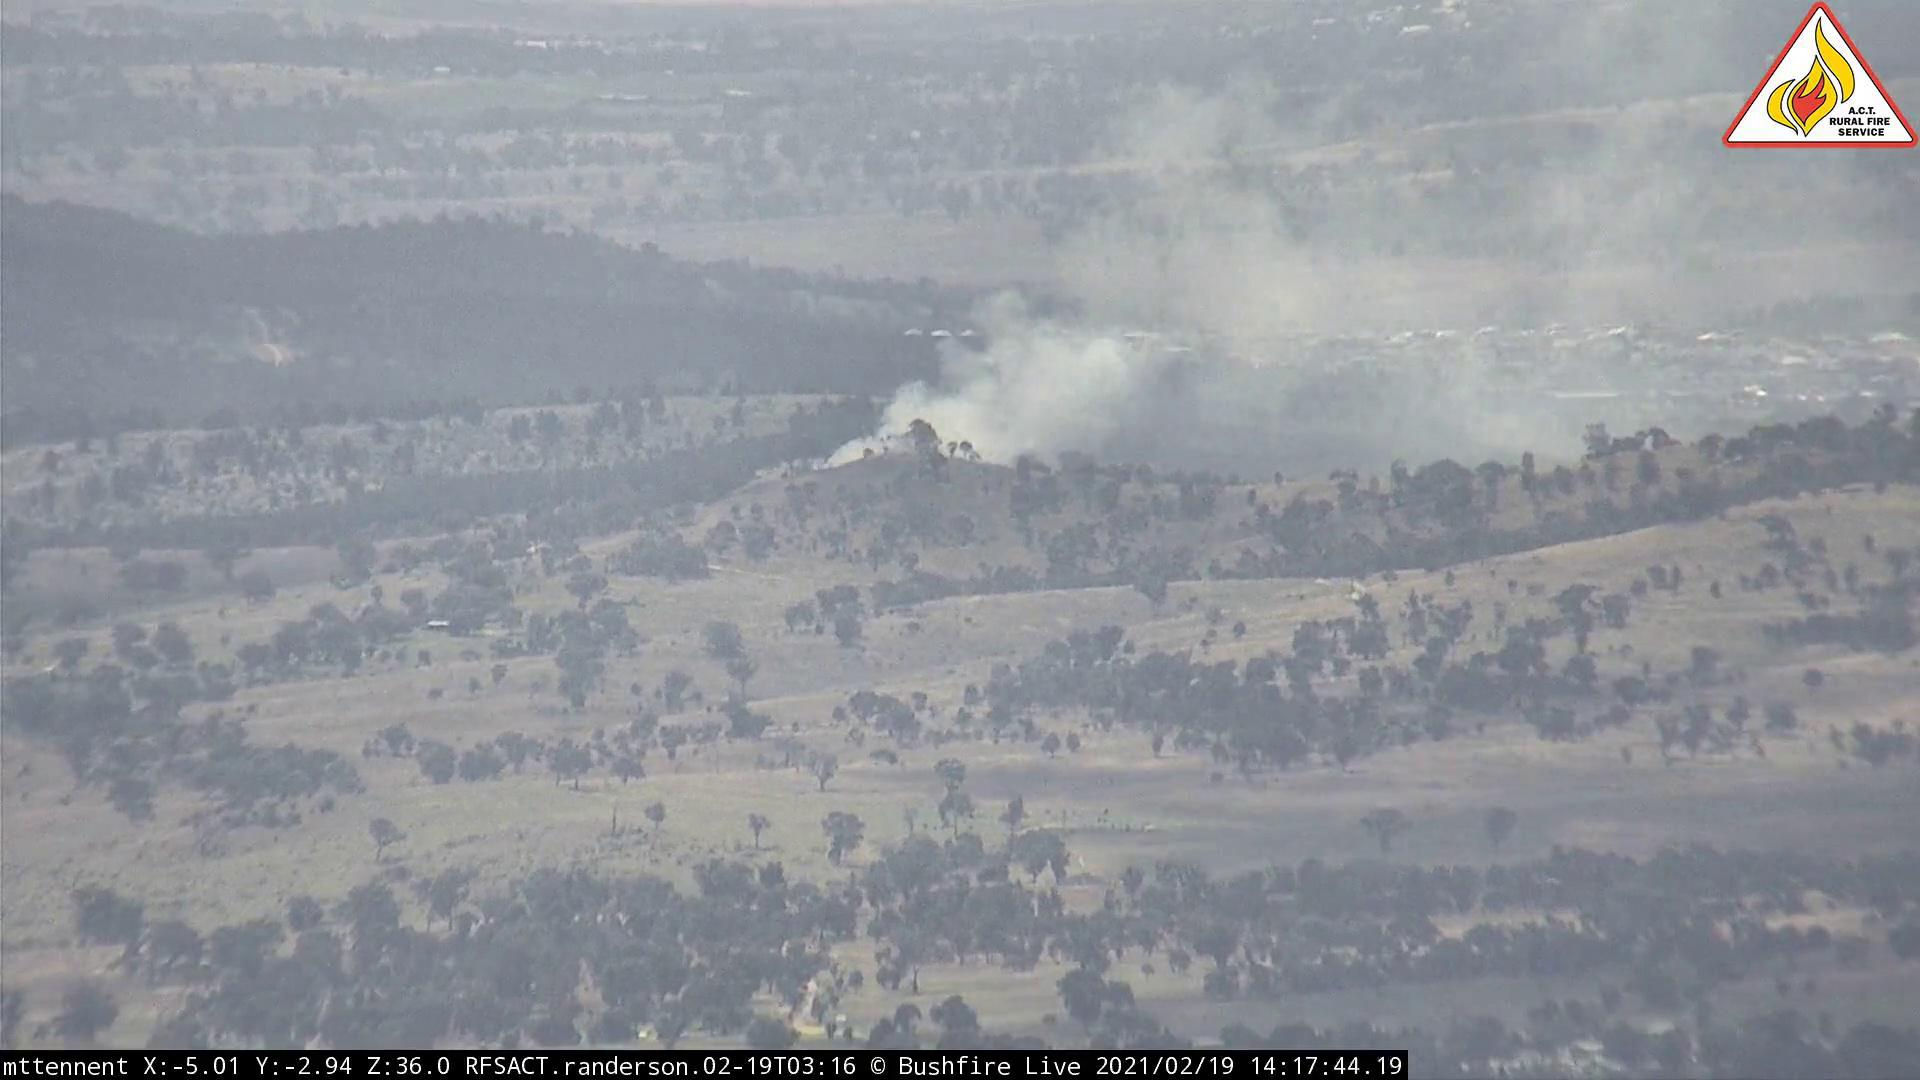Smoke: (807, 95, 1575, 493)
